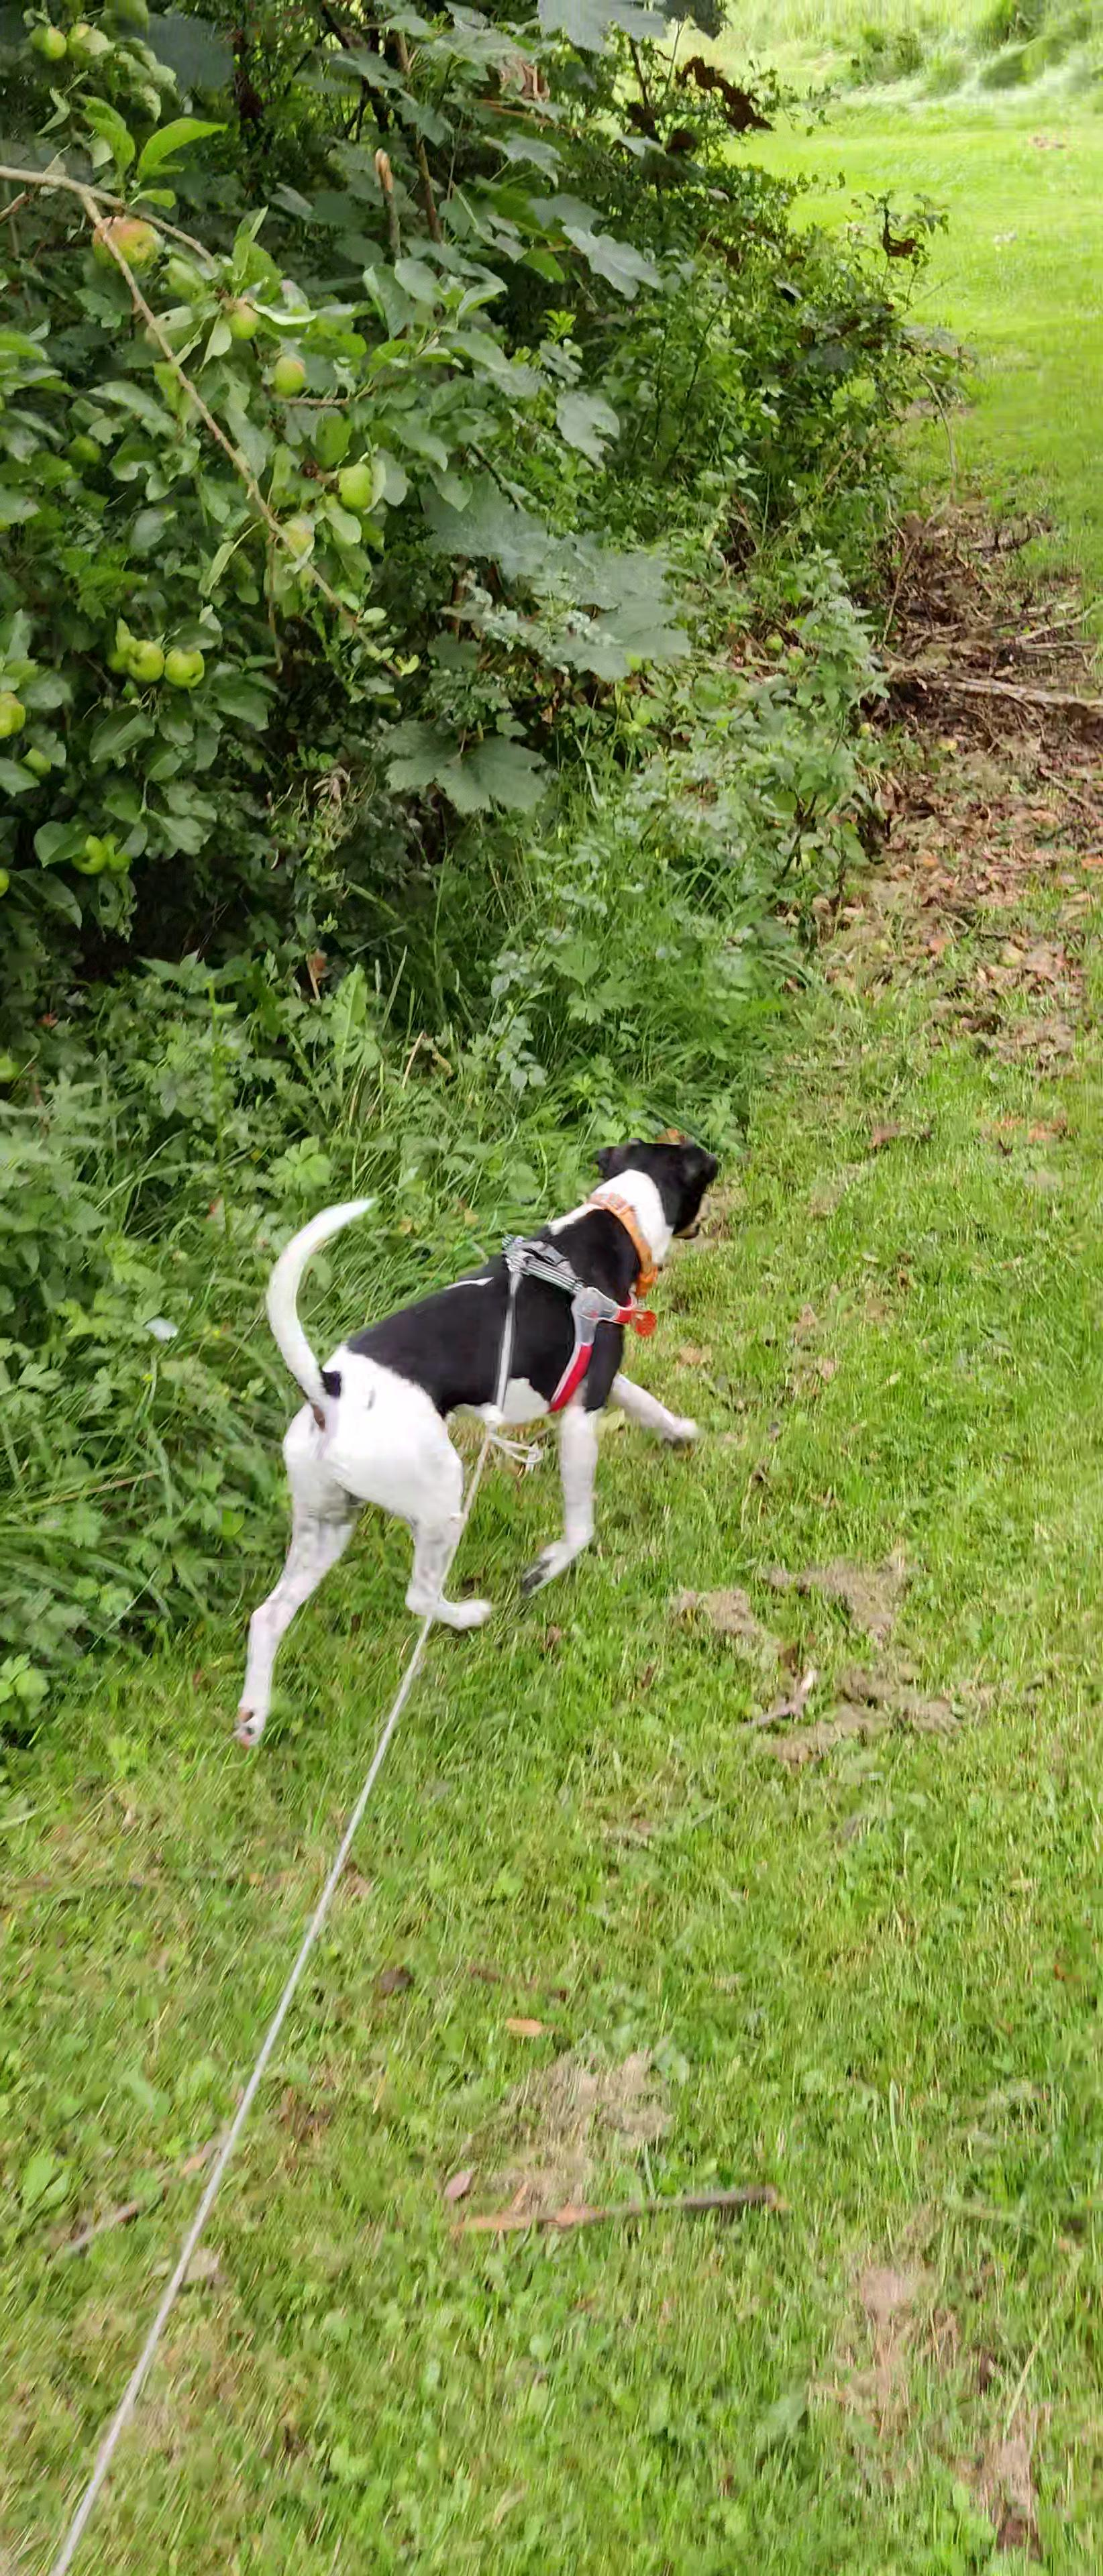Dog: (209, 1134, 720, 1759)
